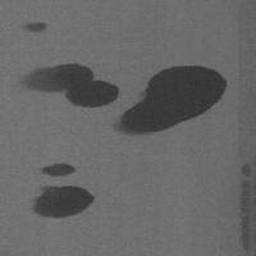Oil spot: (109, 64, 228, 137), (17, 61, 122, 109), (27, 183, 96, 220), (33, 161, 78, 178), (18, 20, 47, 33)
